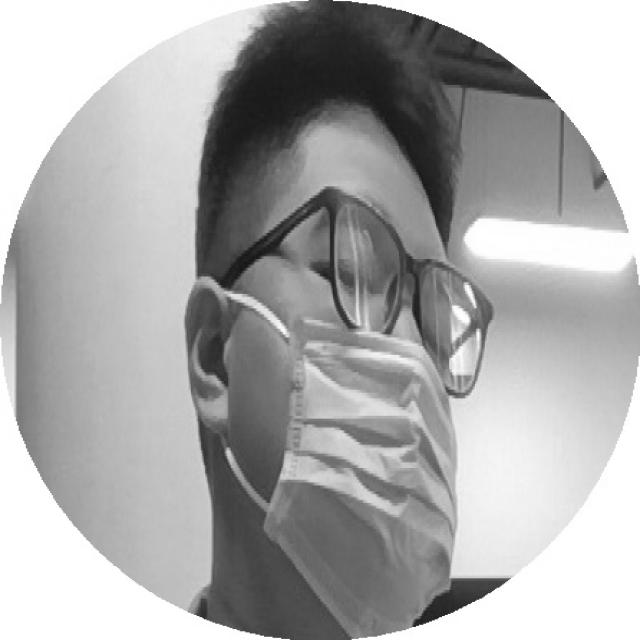fake: (258, 318, 460, 635)
real: (291, 213, 414, 326)
